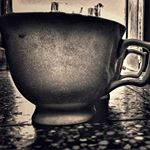cups: (1, 10, 149, 128)
